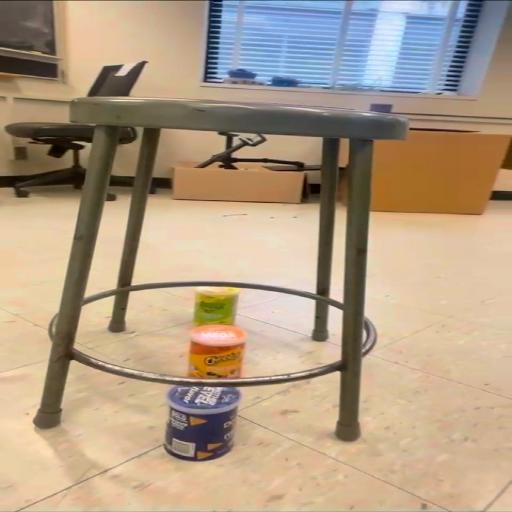pringle can: (169, 384, 235, 461), (190, 326, 242, 381), (195, 286, 237, 326)
